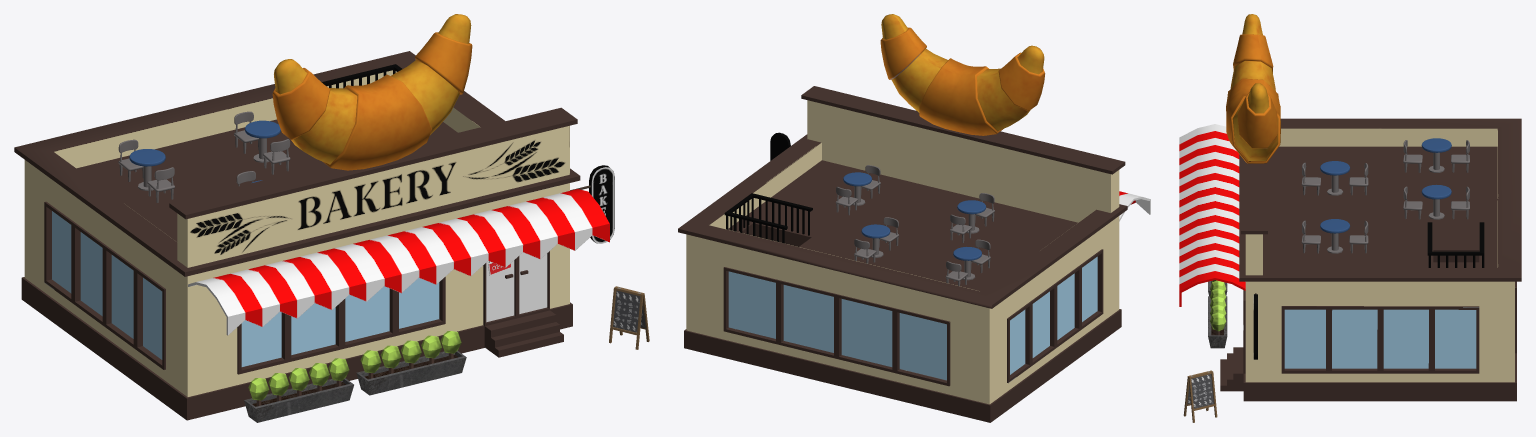
Rendered from Bakery.fbx.
3 renders of one model, left to right at view 1: azimuth 30°, elevation 25°; view 2: azimuth 150°, elevation 25°; view 3: azimuth 270°, elevation 25°, orthographic. The views are drawn at different scales.
Parts seen in each view (by area): view 1: polySurface355, sweep3, pCube134; view 2: polySurface355, sweep3; view 3: polySurface355, sweep3, pCube134.
Part boxes in pixels (x1,y1,x2,y2): polySurface355: [14, 51, 614, 422]; sweep3: [272, 14, 472, 170]; pCube134: [609, 286, 649, 349]; polySurface355: [678, 86, 1150, 422]; sweep3: [880, 14, 1045, 135]; polySurface355: [1179, 118, 1521, 401]; sweep3: [1226, 14, 1280, 163]; pCube134: [1183, 370, 1217, 422].
Size of the model in its own units: 1620 by 1184 by 1324.
3 materials, 3 textured.
